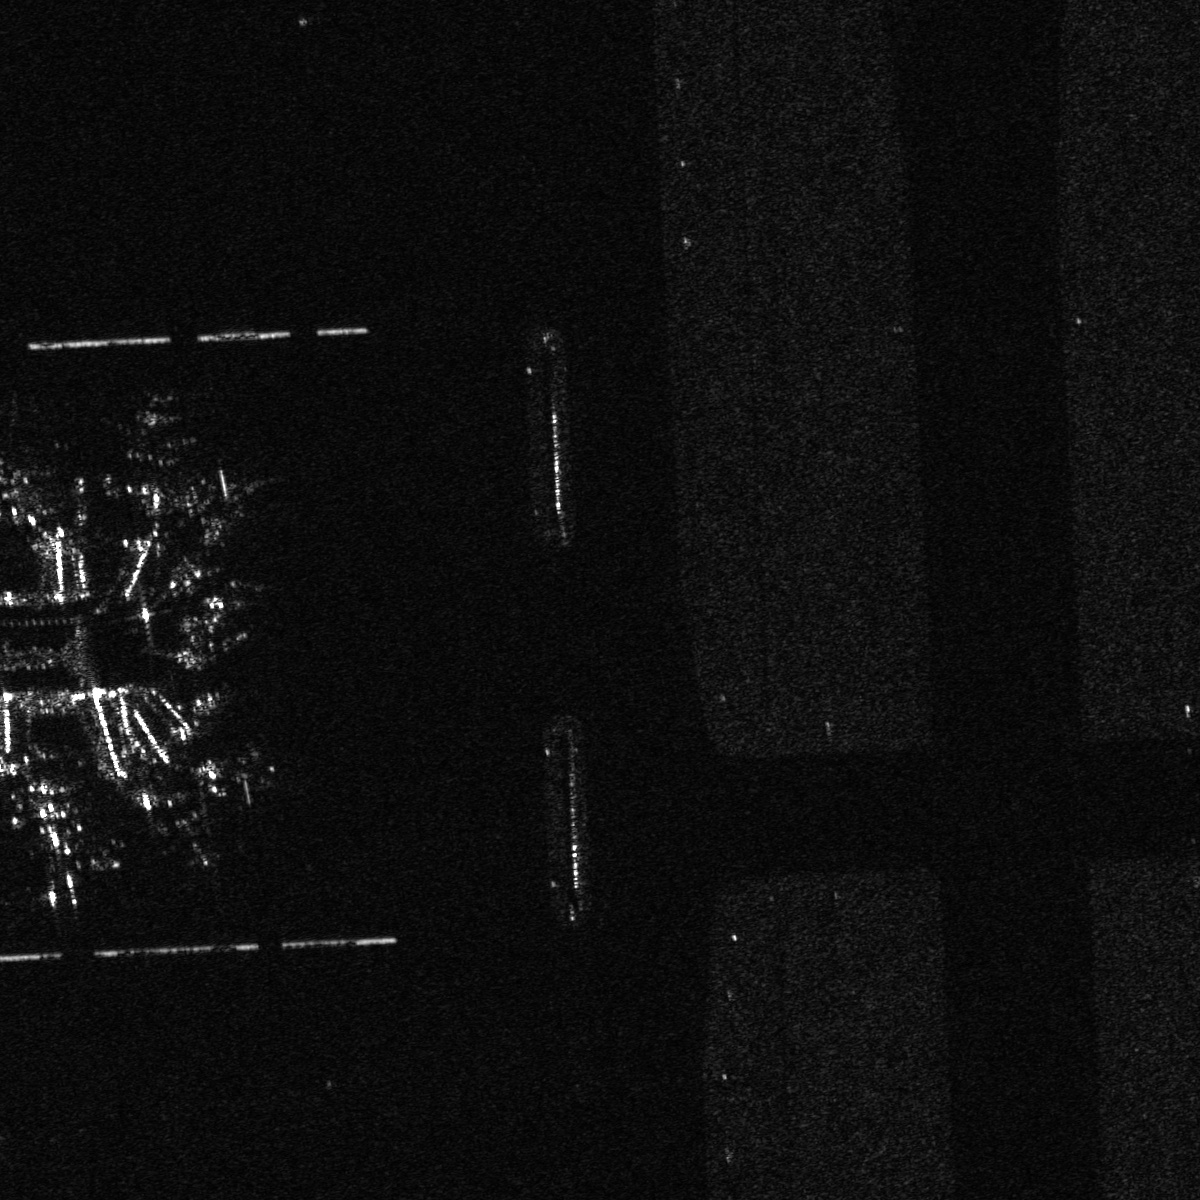A320/321: (89, 385, 202, 501), (15, 795, 96, 911), (173, 734, 284, 816)
Boeing737: (131, 784, 226, 868)
